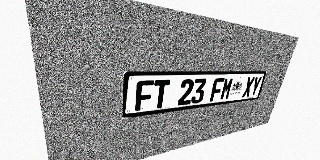2: (178, 79, 195, 106)
3: (190, 78, 207, 104)
F: (135, 80, 154, 111), (209, 78, 224, 101)
M: (219, 78, 234, 100)
T: (152, 79, 170, 109)
X: (242, 77, 255, 97)
Y: (249, 77, 262, 96)
